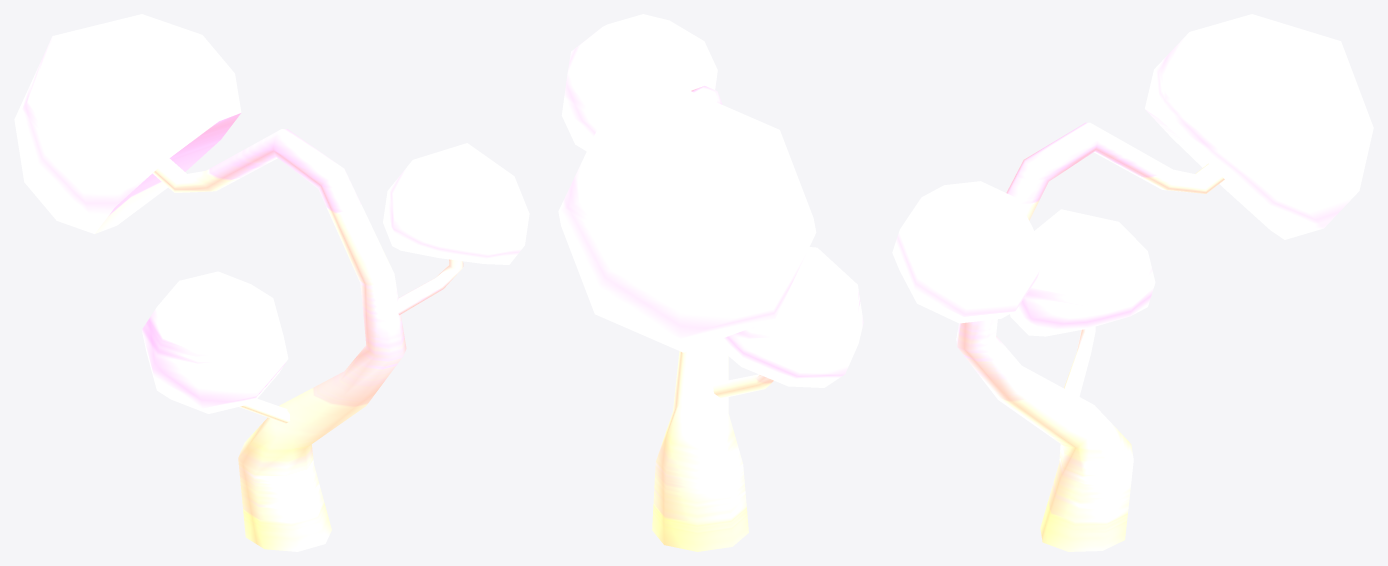
Rendered from grande_peque02.fbx.
3 views of the same model, side by side, from view 1: azimuth 30°, elevation 25°; view 2: azimuth 150°, elevation 25°; view 3: azimuth 270°, elevation 25° (orthographic). The views are drawn at different scales.
Visible parts, largest first — view 1: SetaXS02; view 2: SetaXS02; view 3: SetaXS02.
Boxes of the visible parts, <box> form: SetaXS02: <box>14,14,529,551</box>; SetaXS02: <box>558,14,863,551</box>; SetaXS02: <box>892,14,1373,551</box>.
Size of the model in its own units: 381 by 488 by 450.
